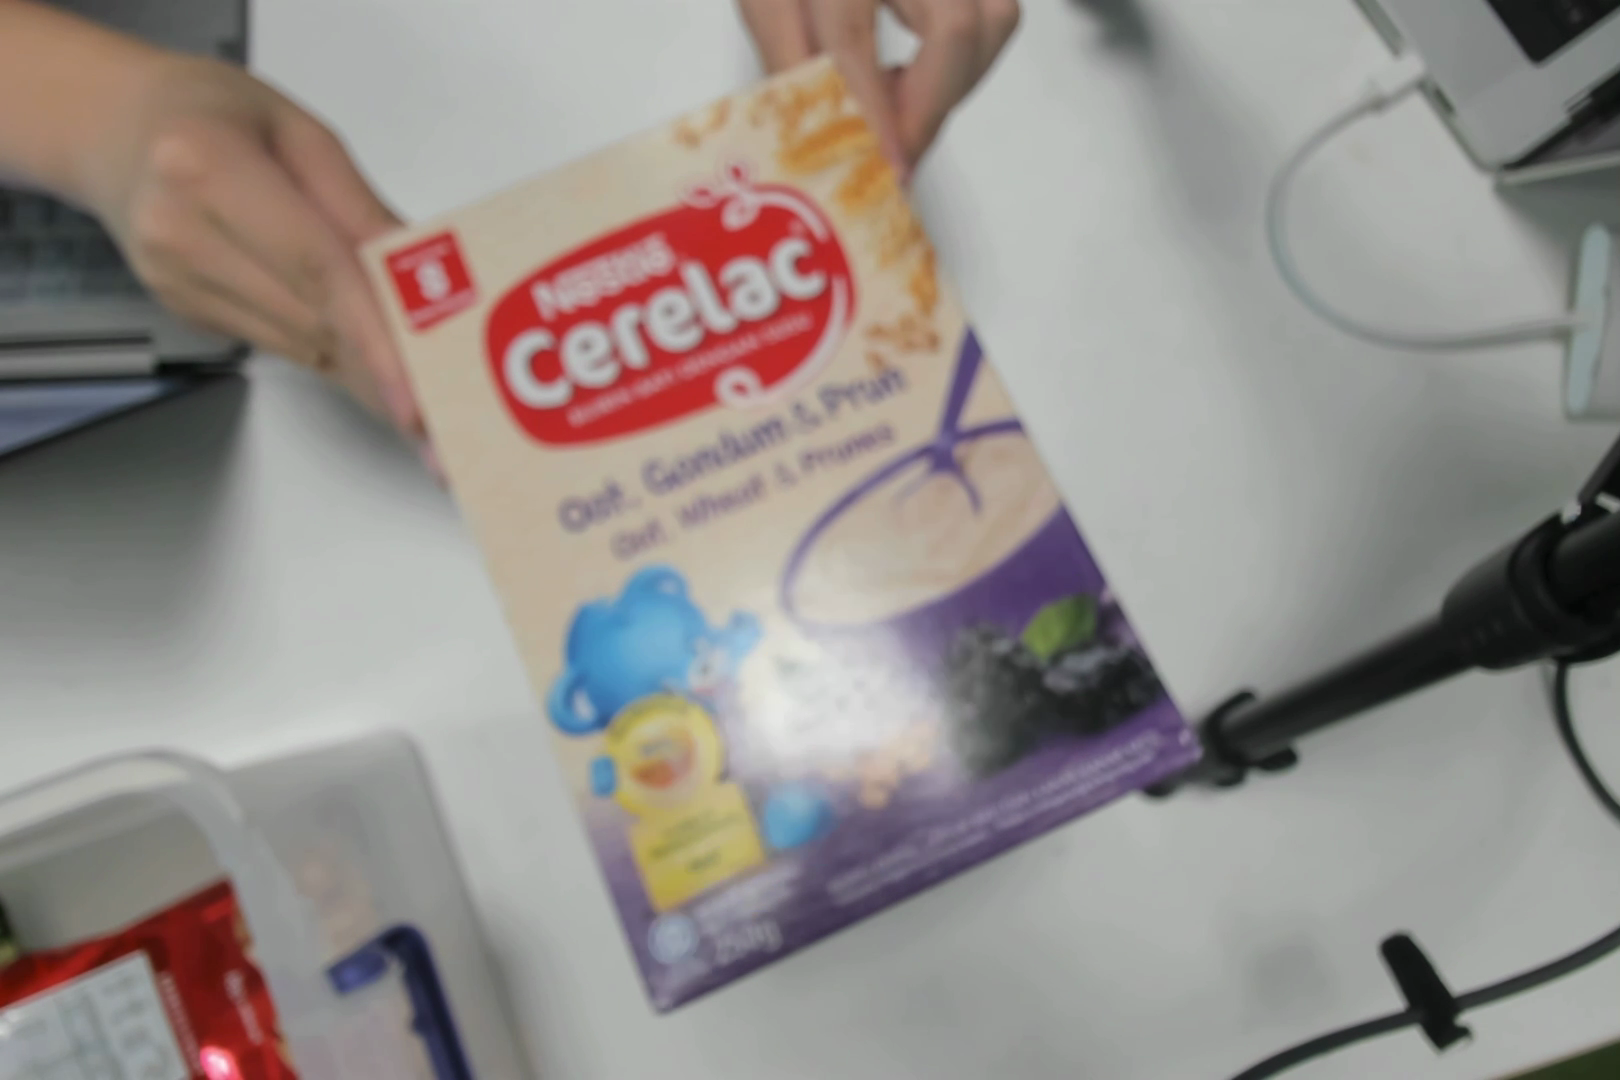d: (400, 221, 1181, 1010)
